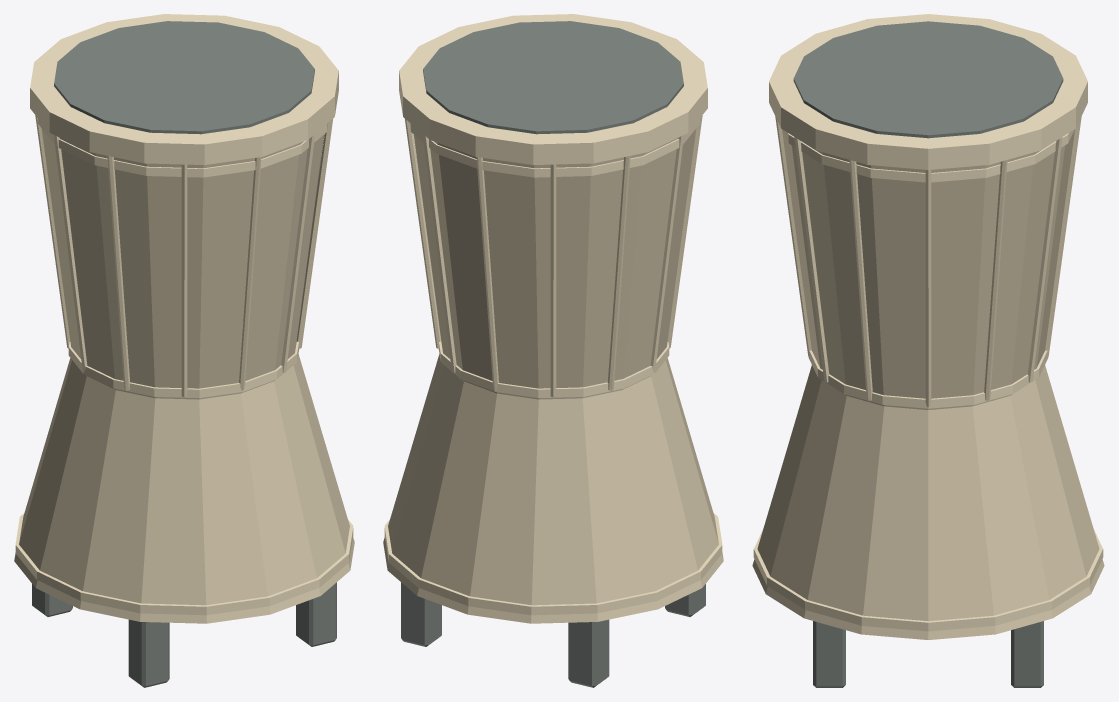
File: hsinchu_cooling_tower_v2.glb
3 renders of one model, left to right at view 1: azimuth 30°, elevation 25°; view 2: azimuth 150°, elevation 25°; view 3: azimuth 270°, elevation 25°, orthographic. The views are drawn at different scales.
Visible parts, largest first — view 1: hsinchu_cooling_tower_v2__hsinchu-warm-concrete, hsinchu_cooling_tower_v2__hsinchu-pale-trim, hsinchu_cooling_tower_v2__hsinchu-machinery; view 2: hsinchu_cooling_tower_v2__hsinchu-warm-concrete, hsinchu_cooling_tower_v2__hsinchu-pale-trim, hsinchu_cooling_tower_v2__hsinchu-machinery; view 3: hsinchu_cooling_tower_v2__hsinchu-warm-concrete, hsinchu_cooling_tower_v2__hsinchu-pale-trim, hsinchu_cooling_tower_v2__hsinchu-machinery.
Part boxes in pixels (bbox=[...]): hsinchu_cooling_tower_v2__hsinchu-warm-concrete: bbox=[14, 128, 354, 623]; hsinchu_cooling_tower_v2__hsinchu-pale-trim: bbox=[15, 14, 353, 615]; hsinchu_cooling_tower_v2__hsinchu-machinery: bbox=[32, 21, 336, 687]; hsinchu_cooling_tower_v2__hsinchu-warm-concrete: bbox=[383, 128, 723, 623]; hsinchu_cooling_tower_v2__hsinchu-pale-trim: bbox=[384, 14, 722, 615]; hsinchu_cooling_tower_v2__hsinchu-machinery: bbox=[401, 21, 705, 687]; hsinchu_cooling_tower_v2__hsinchu-warm-concrete: bbox=[752, 129, 1104, 639]; hsinchu_cooling_tower_v2__hsinchu-pale-trim: bbox=[753, 14, 1103, 631]; hsinchu_cooling_tower_v2__hsinchu-machinery: bbox=[793, 21, 1063, 687].
Size of the model in its own units: 24.48 by 43.12 by 24.48.
